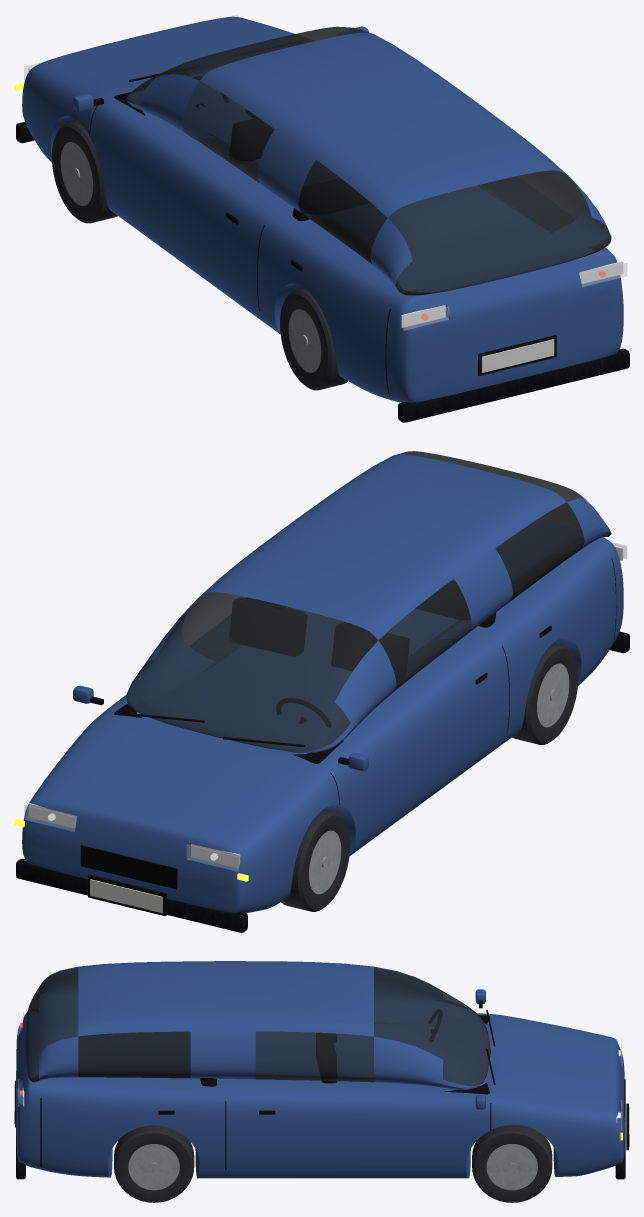
File: estate_blue.gltf
3 renders of one model, top to bottom at view 1: azimuth 30°, elevation 25°; view 2: azimuth 150°, elevation 25°; view 3: azimuth 270°, elevation 25°, orthographic. The views are drawn at different scales.
Parts seen in each view (by area): view 1: estate_blue; view 2: estate_blue; view 3: estate_blue.
Part boxes in pixels (x1,y1,x2,y2): estate_blue: (14,14,629,422); estate_blue: (14,451,629,932); estate_blue: (14,961,629,1202).
Size of the model in its own units: 2.11 by 1.48 by 4.9.
17 materials, 8 textured.
